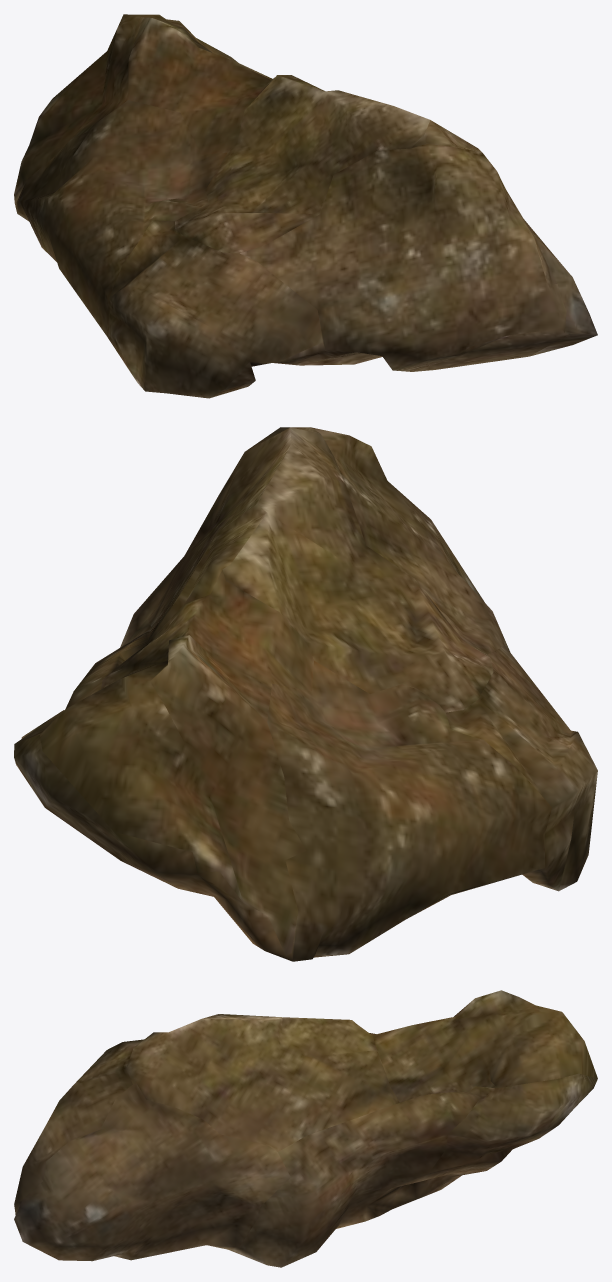
Rendered from ph_rock1.glb.
3 renders of one model, top to bottom at view 1: azimuth 30°, elevation 25°; view 2: azimuth 150°, elevation 25°; view 3: azimuth 270°, elevation 25°, orthographic. The views are drawn at different scales.
Parts seen in each view (by area): view 1: rock_moss_set_01_rock01; view 2: rock_moss_set_01_rock01; view 3: rock_moss_set_01_rock01.
Boxes of the visible parts, box(x1,y1,x2,y2) form: rock_moss_set_01_rock01: box(14, 14, 597, 398); rock_moss_set_01_rock01: box(14, 427, 597, 961); rock_moss_set_01_rock01: box(14, 990, 597, 1267).
Bounding box in the file's own units: 2.24 × 1.46 × 3.36.
Materials: 1 (1 with a texture image).
